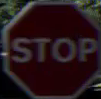Stop: (3, 2, 94, 93)
